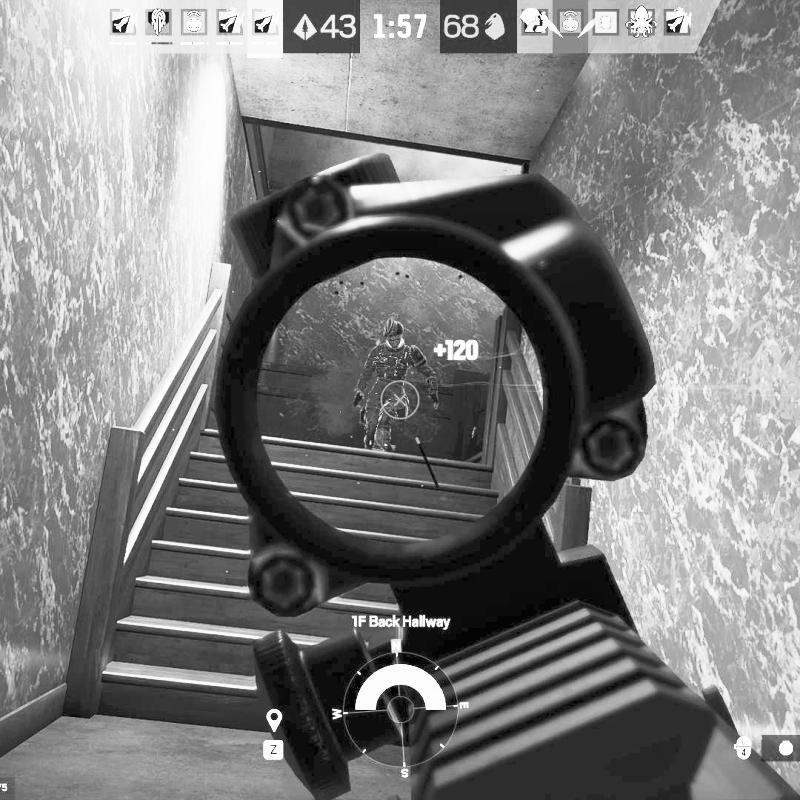Character: (352, 315, 441, 456)
Head: (384, 318, 404, 349)
